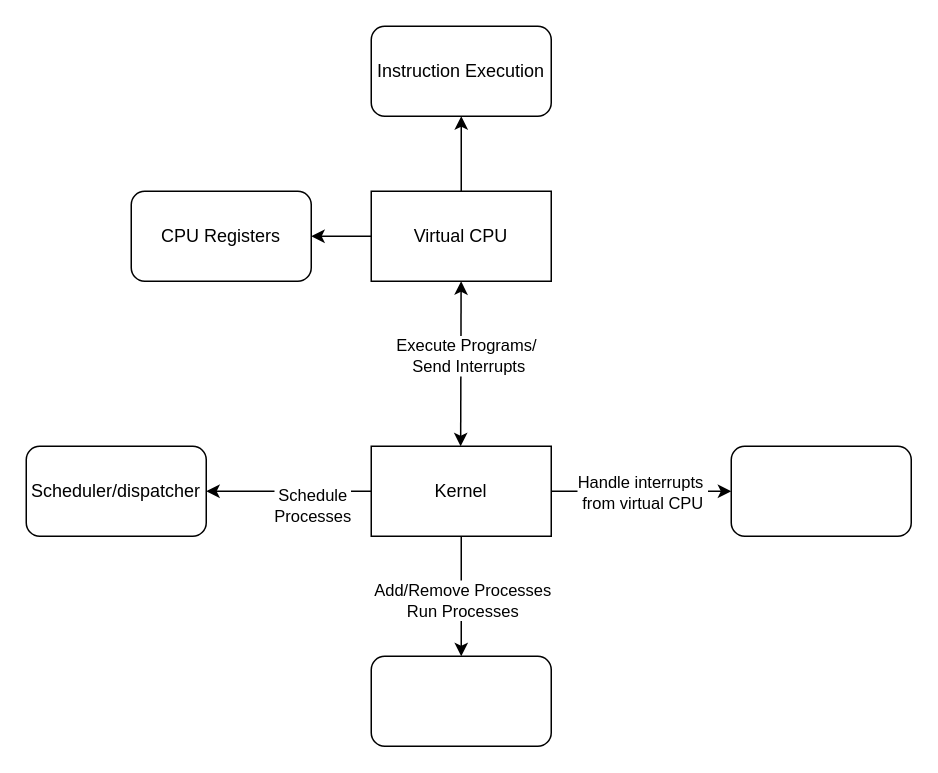
Image size: 938x773. Some labels were removed from this diagram. Each missing label, with the centre of its shape:
Interrupt handler: the point at 820,490
Processes: the point at 460,700
